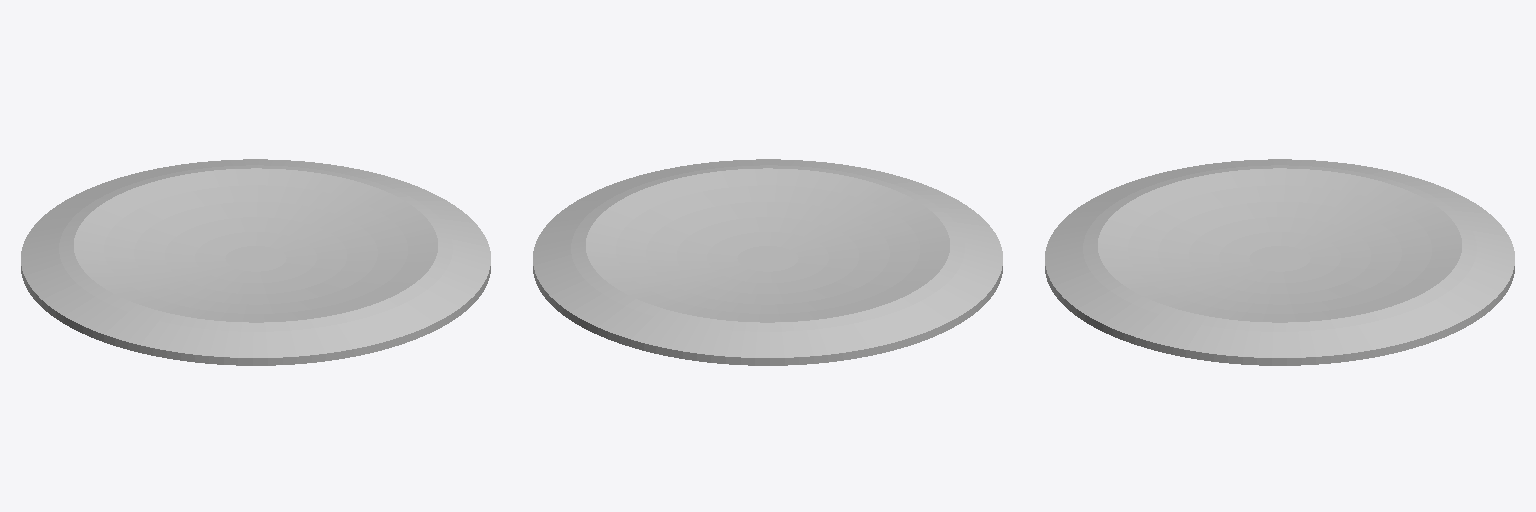
File: original-1.obj
3 views of the same model, side by side, from view 1: azimuth 30°, elevation 25°; view 2: azimuth 150°, elevation 25°; view 3: azimuth 270°, elevation 25° (orthographic).
Parts seen in each view (by area): view 1: Difference/mesh1/mesh1-geometry#mesh1-geometry; view 2: Difference/mesh1/mesh1-geometry#mesh1-geometry; view 3: Difference/mesh1/mesh1-geometry#mesh1-geometry.
Part boxes in pixels (x1,y1,x2,y2): Difference/mesh1/mesh1-geometry#mesh1-geometry: (21,159,490,365); Difference/mesh1/mesh1-geometry#mesh1-geometry: (533,159,1002,365); Difference/mesh1/mesh1-geometry#mesh1-geometry: (1045,159,1514,365).
Bounding box in the file's own units: 0.7986 × 0.0393 × 0.7986.